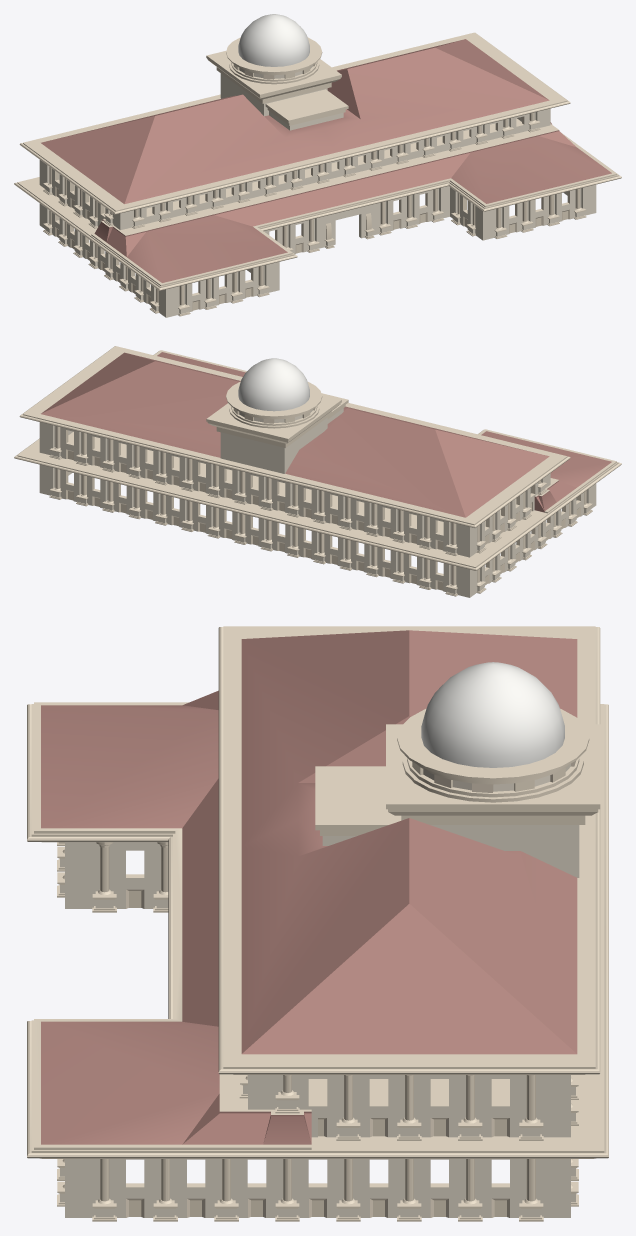
File: BathHouse.fbx
3 views of the same model, one above another, from view 1: azimuth 30°, elevation 25°; view 2: azimuth 150°, elevation 25°; view 3: azimuth 270°, elevation 25° (orthographic). The views are drawn at different scales.
Parts seen in each view (by area): view 1: buildings2; view 2: buildings2; view 3: buildings2.
Boxes of the visible parts, box(x1,y1,x2,y2) form: buildings2: box(14, 14, 621, 317); buildings2: box(14, 346, 621, 597); buildings2: box(27, 626, 608, 1221).
Bounding box in the file's own units: 110 × 39.12 × 60.1.
